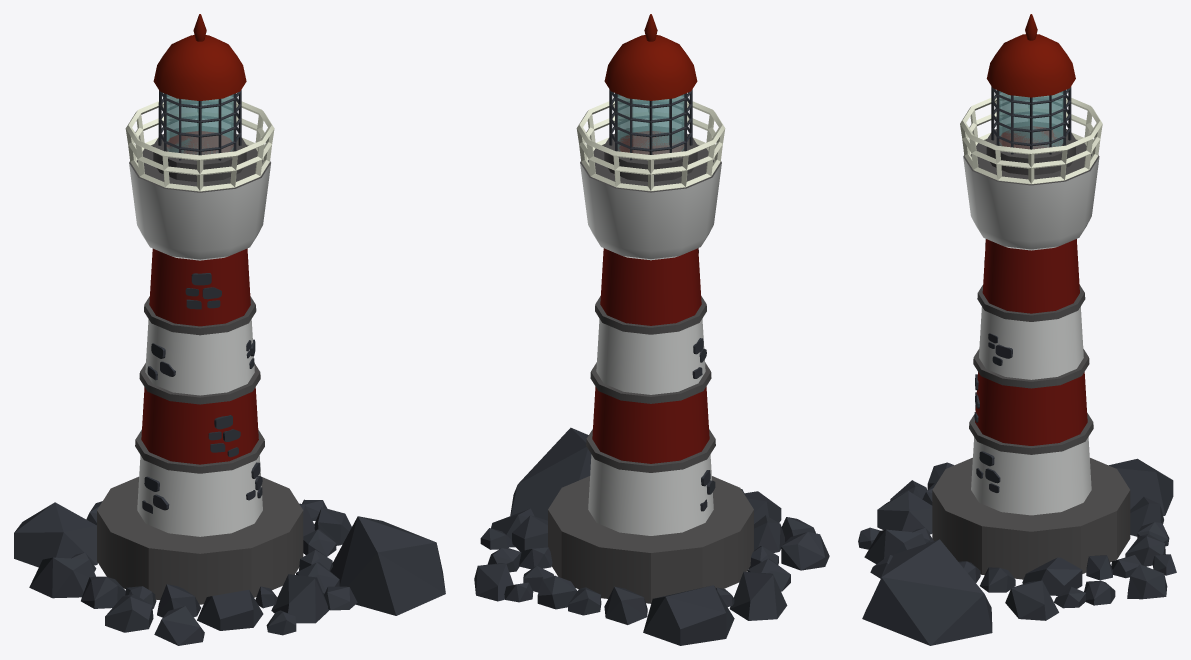
Rendered from LIGHTHOUSEglass.fbx.
3 renders of one model, left to right at view 1: azimuth 30°, elevation 25°; view 2: azimuth 150°, elevation 25°; view 3: azimuth 270°, elevation 25°, orthographic. The views are drawn at different scales.
Visible parts, largest first — view 1: Cylinder.001; view 2: Cylinder.001; view 3: Cylinder.001.
Part boxes in pixels (x1,y1,x2,y2): Cylinder.001: (14,14,445,645); Cylinder.001: (474,14,829,645); Cylinder.001: (858,14,1176,645).
Size of the model in its own units: 476 by 760 by 405.
